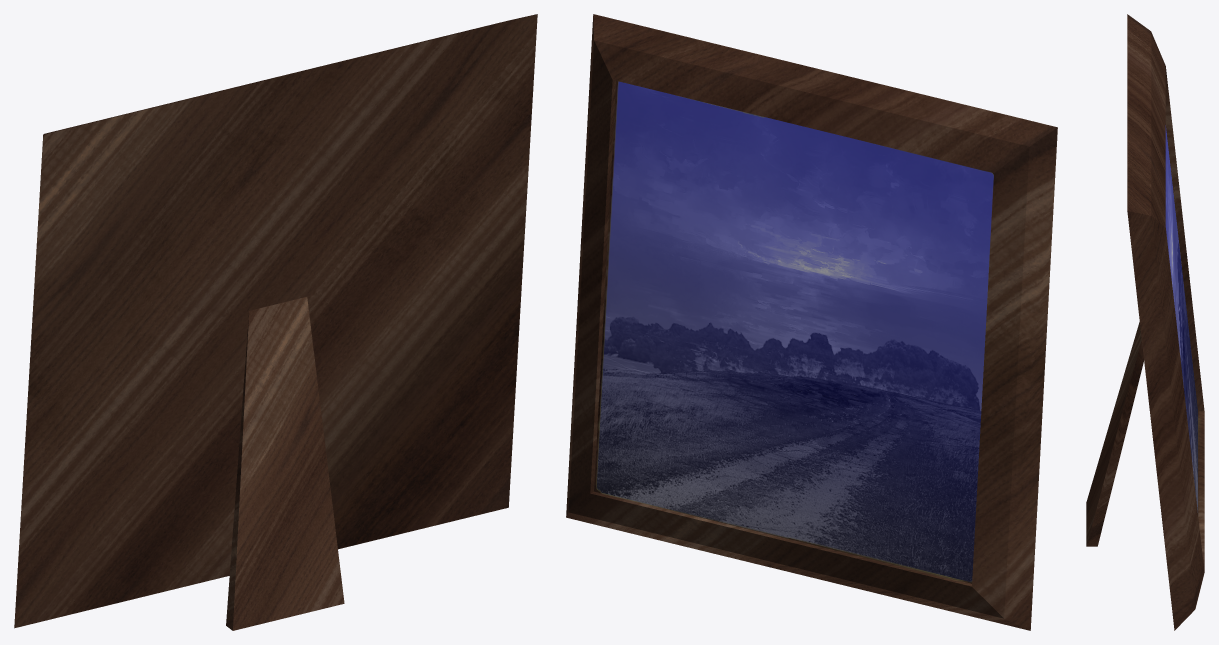
File: photo frame01.fbx
3 renders of one model, left to right at view 1: azimuth 30°, elevation 25°; view 2: azimuth 150°, elevation 25°; view 3: azimuth 270°, elevation 25°, orthographic. The views are drawn at different scales.
Visible parts, largest first — view 1: pCube5; view 2: pCube5; view 3: pCube5.
Part boxes in pixels (x1,y1,x2,y2): pCube5: (14,14,537,630); pCube5: (566,14,1057,630); pCube5: (1086,14,1204,630).
Size of the model in its own units: 0.2444 by 0.2447 by 0.062.
